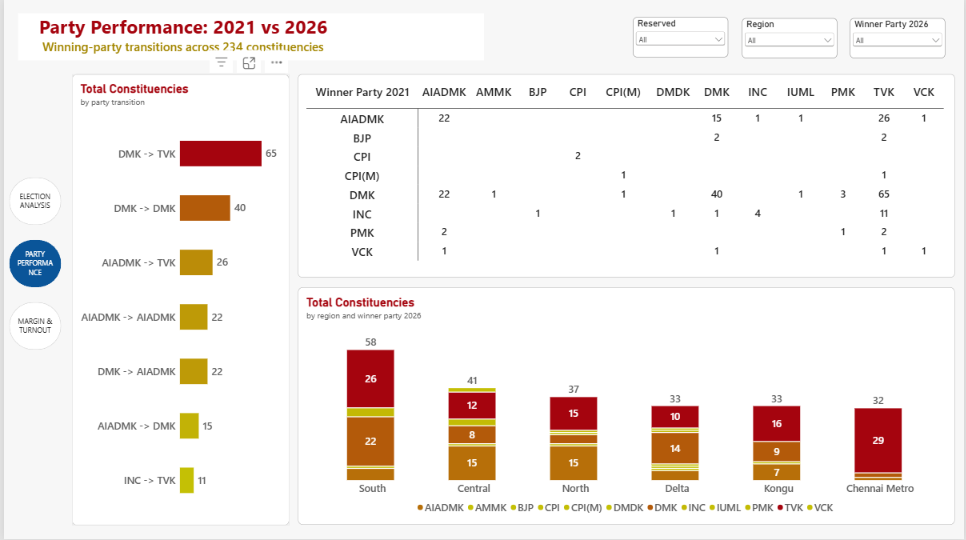

This screenshot's page, from the dashboard's own definition file:
{"tool":"powerbi","page":{"name":"PARTY PERFORMANCE","canvas":[1920,1080],"ordinal":1},"visuals":[{"type":"textbox","box":[28,28,932,94],"z":0},{"type":"slicer","fields":{"Values":["tn_21_26.region"]},"box":[1475.3,37.4,190,80],"z":0,"group":"g1"},{"type":"slicer","fields":{"Values":["tn_21_26.reserved"]},"box":[1258,36,190,80],"z":1000,"group":"g1"},{"type":"clusteredBarChart","fields":{"Category":["tn_21_26.party_transition"],"Y":["tn_21_26.Total Constituencies"]},"box":[136.7,150,434,902],"z":1000},{"type":"slicer","fields":{"Values":["tn_21_26.winner_party_2026"]},"box":[1692.6,37.4,190,80],"z":2000,"group":"g1"},{"type":"pivotTable","fields":{"Columns":["tn_21_26.winner_party_2026"],"Rows":["tn_21_26.winner_party_2021"],"Values":["tn_21_26.Total Constituencies"]},"box":[588.3,150,1313.3,406.7],"z":2000},{"type":"columnChart","fields":{"Category":["tn_21_26.region"],"Series":["tn_21_26.winner_party_2026"],"Y":["tn_21_26.Total Constituencies"]},"box":[588.3,576.7,1313.3,475],"z":3000},{"type":"group","id":"g1","title":"slicers","box":[1258,36,624,82],"z":4000},{"type":"pageNavigator","box":[0,346,124,366],"z":4001}]}

Visuals, with their boxes in screenshot pixels (x1, y1, x2, y2), scaled from the page's 1920x1080 canvas onto the 966x540 screenshot:
textbox: box(14, 14, 483, 61)
slicer - tn_21_26.region: box(742, 19, 838, 59)
slicer - tn_21_26.reserved: box(633, 18, 729, 58)
clusteredBarChart - tn_21_26.party_transition x tn_21_26.Total Constituencies: box(69, 75, 287, 526)
slicer - tn_21_26.winner_party_2026: box(852, 19, 947, 59)
pivotTable - tn_21_26.winner_party_2026 x tn_21_26.winner_party_2021: box(296, 75, 957, 278)
columnChart - tn_21_26.region x tn_21_26.winner_party_2026: box(296, 288, 957, 526)
"slicers" group: box(633, 18, 947, 59)
pageNavigator: box(0, 173, 62, 356)
